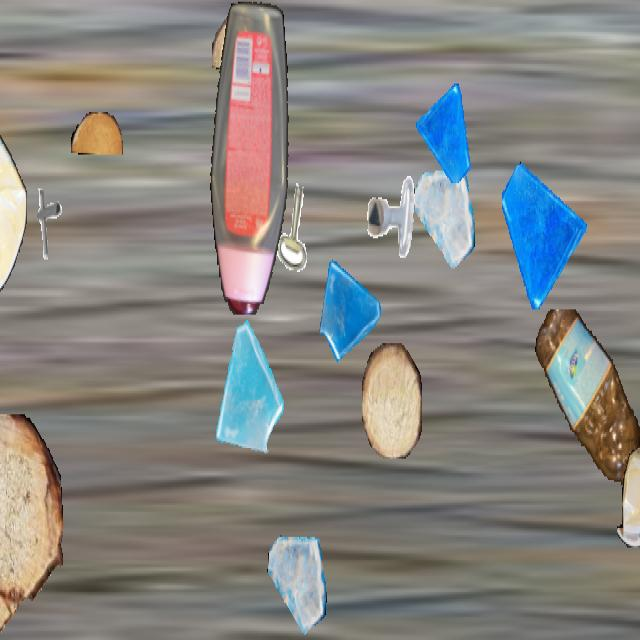glass: (502, 158, 586, 308), (205, 318, 285, 461), (317, 249, 383, 366), (414, 165, 474, 272), (267, 532, 327, 638), (416, 82, 472, 181)
metal: (269, 178, 325, 277), (366, 172, 418, 265), (25, 183, 69, 261)
plastic: (209, 2, 293, 314), (532, 310, 640, 483), (0, 2, 27, 311), (617, 441, 640, 547)
wood: (0, 414, 62, 638), (362, 343, 422, 457), (212, 16, 286, 73), (71, 112, 123, 155)
